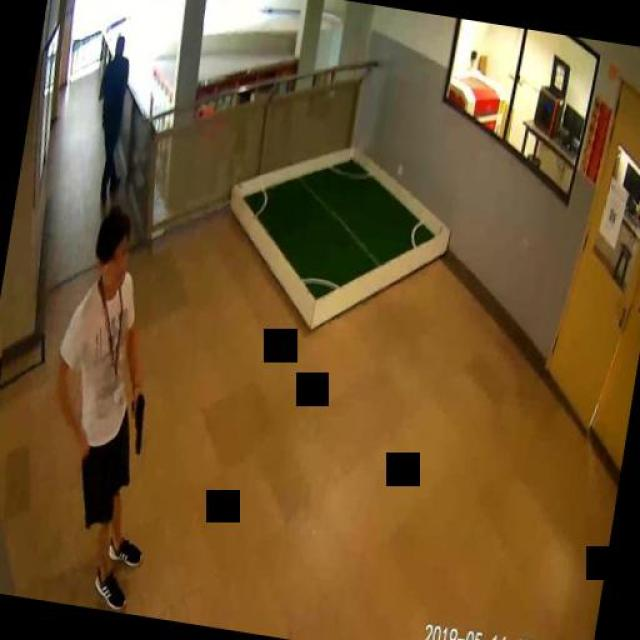gun: (122, 388, 148, 452)
